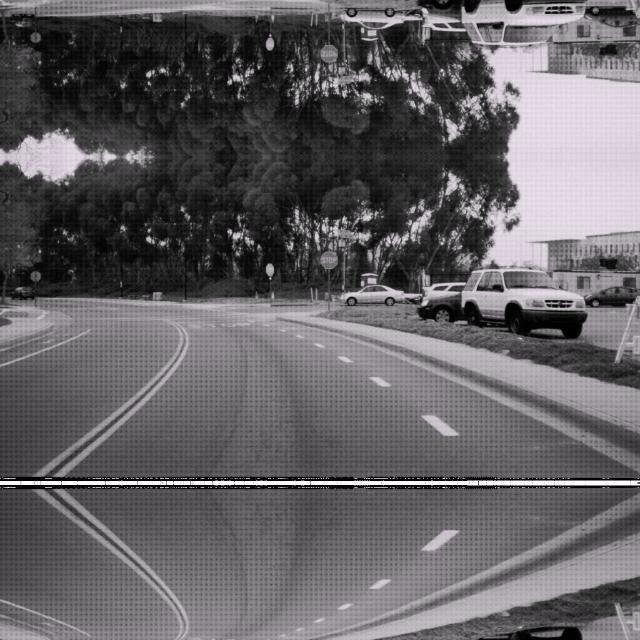stop: (319, 248, 337, 268), (319, 44, 337, 64), (265, 262, 275, 276), (265, 36, 275, 50)
